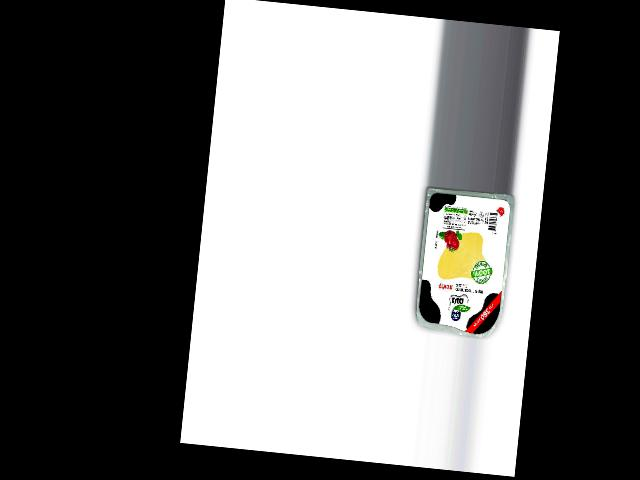cheese: (412, 186, 515, 341)
